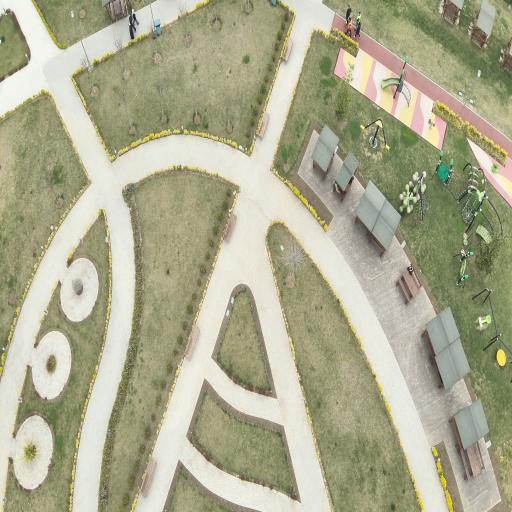person: (129, 13, 136, 32), (131, 10, 139, 25), (346, 19, 352, 37), (346, 5, 351, 25), (428, 118, 436, 130), (355, 20, 360, 38), (129, 22, 134, 39), (356, 11, 361, 24), (407, 266, 413, 275)
